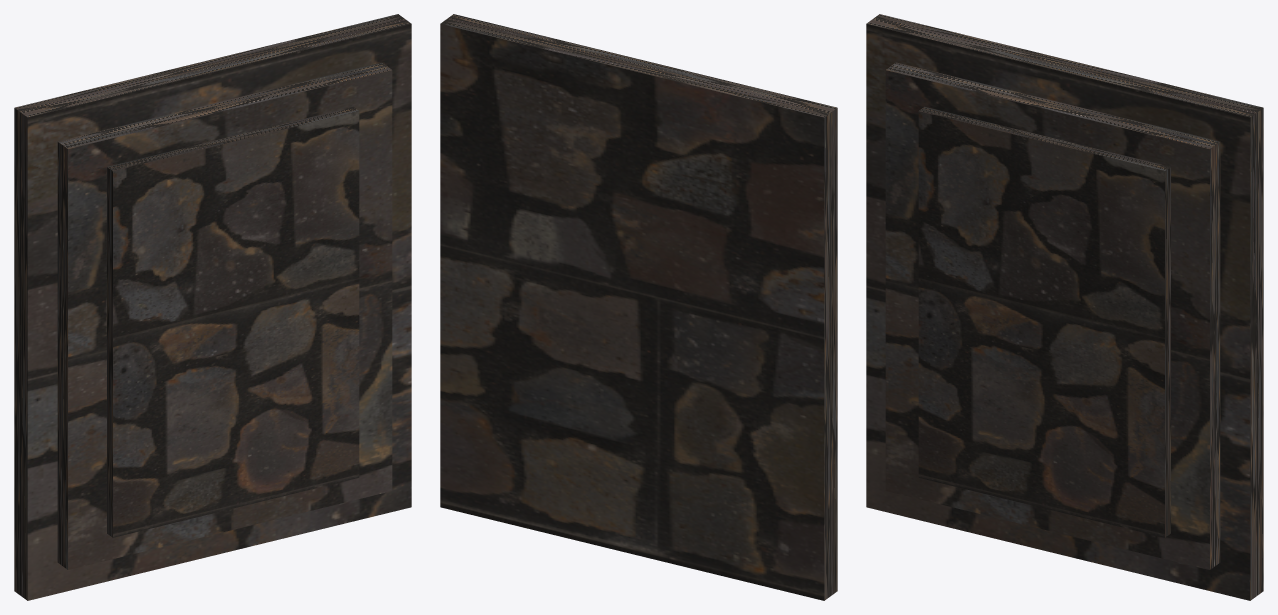
The model's file is AltarStonework.obj.
3 renders of one model, left to right at view 1: azimuth 30°, elevation 25°; view 2: azimuth 150°, elevation 25°; view 3: azimuth 330°, elevation 25°, orthographic.
Visible parts, largest first — view 1: AltarStonework; view 2: AltarStonework; view 3: AltarStonework.
Boxes of the visible parts, x1=… form: AltarStonework: x1=14, y1=14, x2=411, y2=600; AltarStonework: x1=440, y1=14, x2=837, y2=600; AltarStonework: x1=866, y1=14, x2=1263, y2=600.
Size of the model in its own units: 2.96 by 3.56 by 0.4.
1 material, 1 textured.
